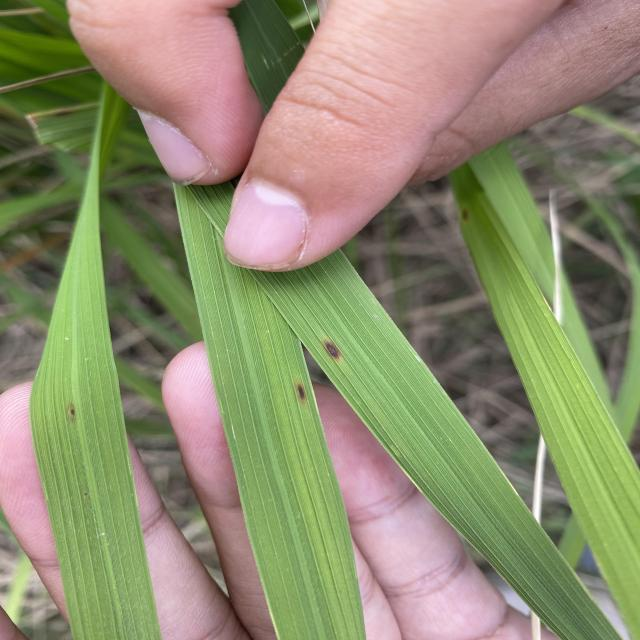Dom nau: (319, 337, 345, 364), (295, 382, 307, 404), (67, 406, 77, 419)
